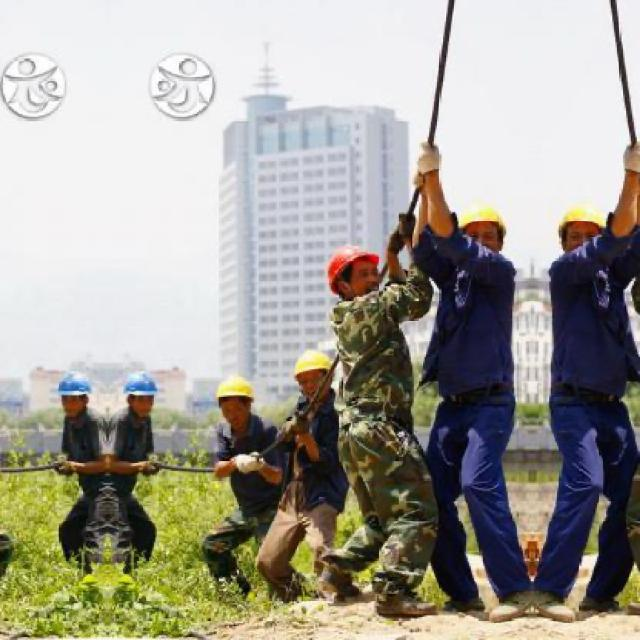con casco: (321, 224, 414, 342), (544, 181, 634, 301), (276, 341, 351, 419), (201, 382, 276, 448), (464, 212, 508, 269)
